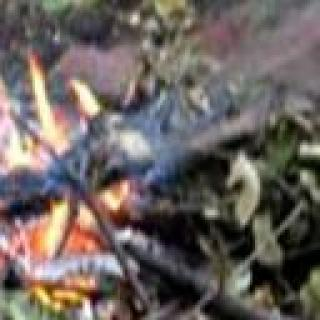fire: (0, 29, 148, 320)
